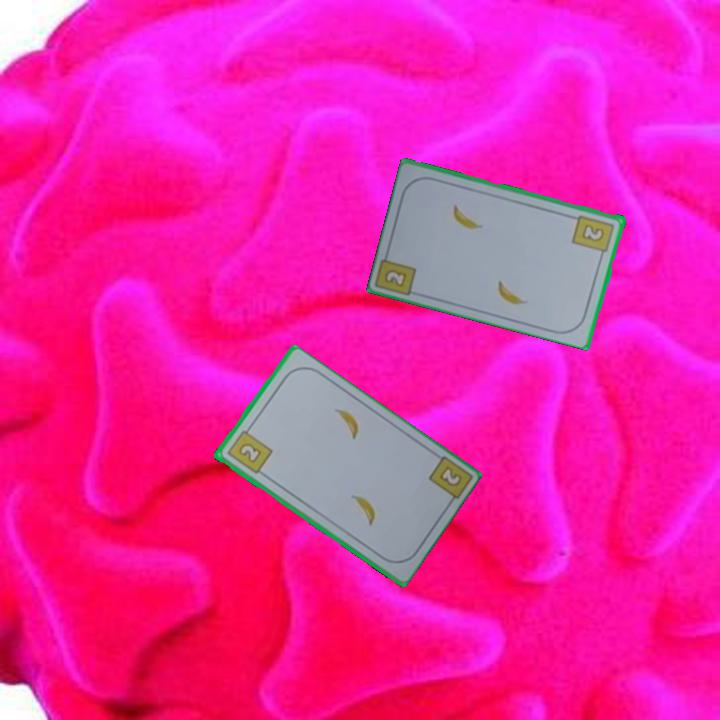2b: (223, 423, 275, 477), (569, 211, 617, 260), (435, 463, 465, 490), (381, 265, 410, 290)
